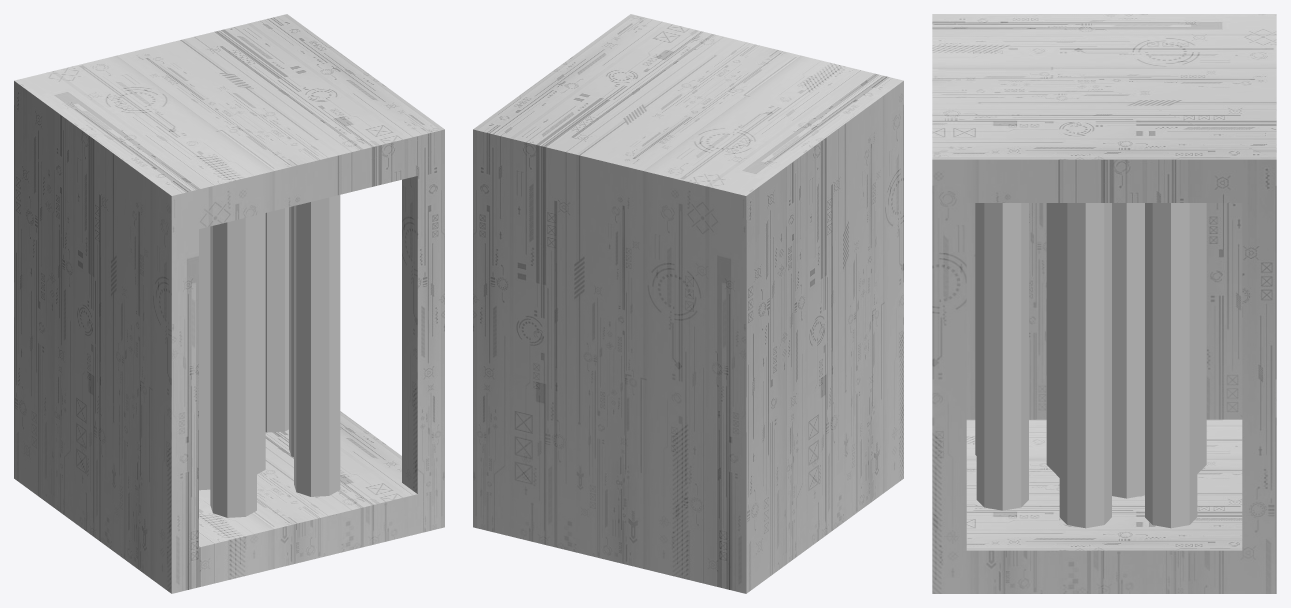
The model's file is Block15.fbx.
The picture shows the model from 3 angles, left to right: view 1: azimuth 30°, elevation 25°; view 2: azimuth 150°, elevation 25°; view 3: azimuth 270°, elevation 25°; orthographic projection. The views are drawn at different scales.
Visible parts, largest first — view 1: Cube.015; view 2: Cube.015; view 3: Cube.015.
Boxes of the visible parts, x1,y1,x2,y2 form: Cube.015: [14, 14, 444, 593]; Cube.015: [473, 14, 903, 593]; Cube.015: [932, 14, 1276, 593].
Size of the model in its own units: 200 by 200 by 278.
